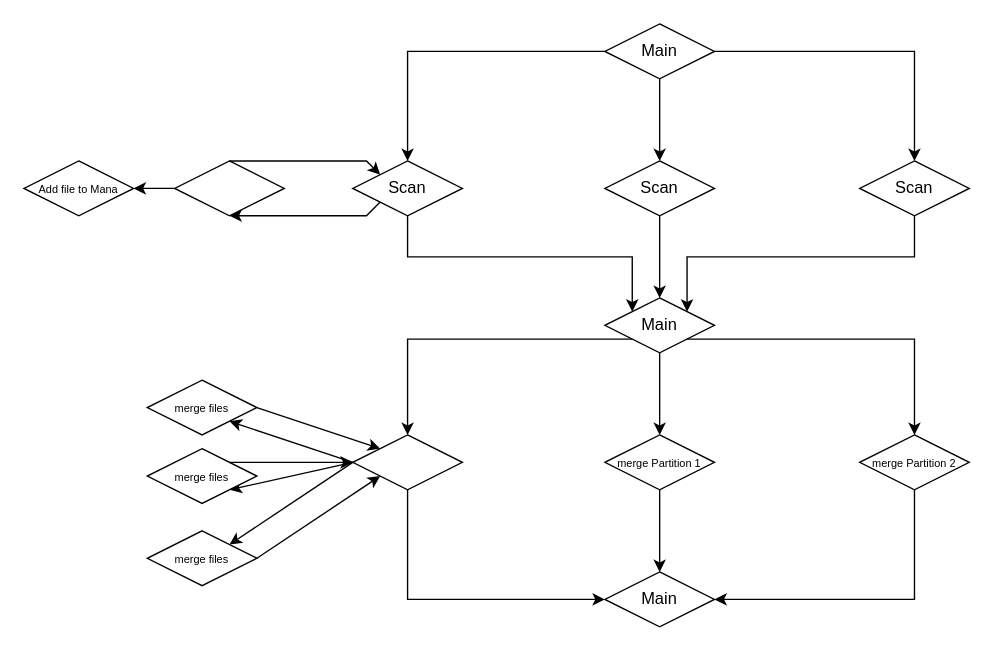
Image size: 993x651. Some labels were removed from this diagram. Each missing label, with the centre of its shape:
"merge Partition 0" goes at [406,462].
"Spill to S3" goes at [228,188].
